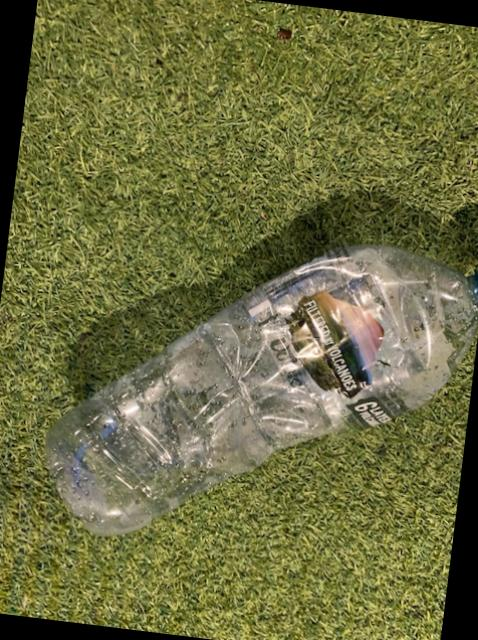plastic: (46, 247, 478, 536)
